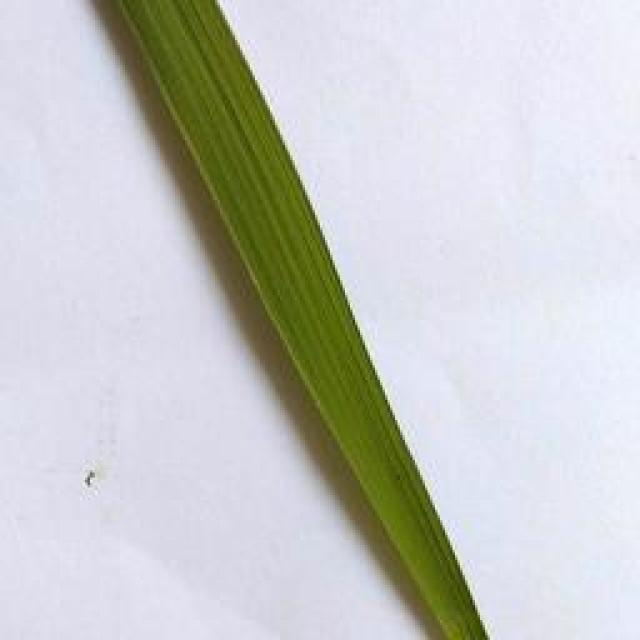Healthy-Plant: (111, 0, 490, 640)
